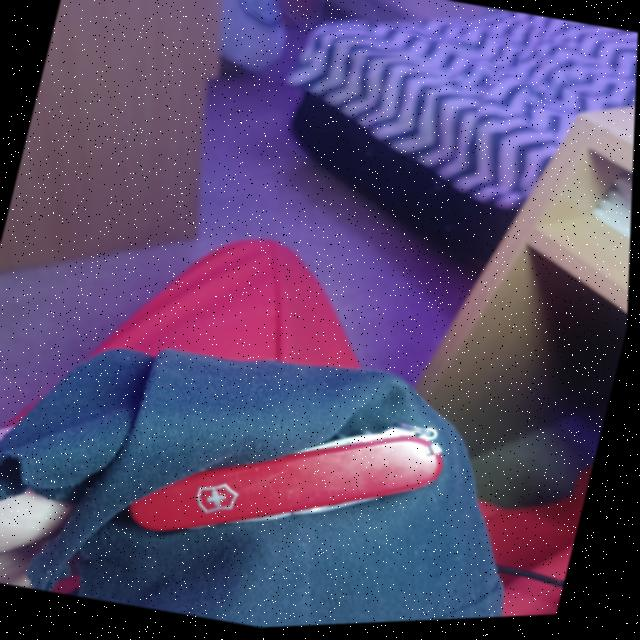knife victorinox: (133, 431, 446, 532)
